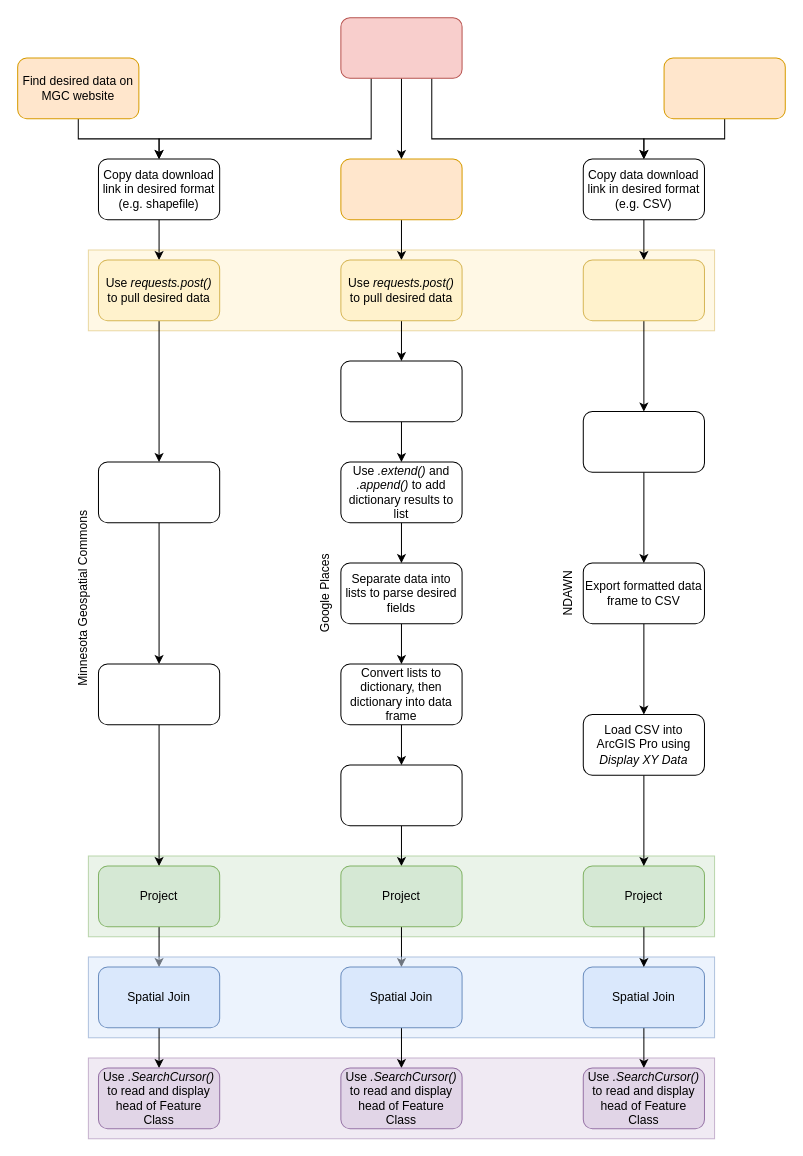
Some shapes in this 803 by 1156 pixel diagram are drawn without their labels. The box of each missing label's shape, as (x1, y1, x2, y2) in pixels:
Convert data frame to CSV and load into ArcGIS Pro using Display XY Data: (340, 764, 462, 826)
Convert to bytes using io.BytesIO() , and then zip: (97, 461, 220, 523)
Find desired data on NDAWN website: (663, 57, 785, 119)
Generate Google Places API access link: (340, 158, 462, 220)
Import desired packages to ArcGIS Pro Notebook: (340, 17, 462, 78)
Load JSON data into dictionary: (340, 360, 462, 422)
Parse and format data frame to remove headings and other unwanted information: (582, 411, 704, 472)
Unzip to desired using .extractall(): (97, 663, 220, 725)
Use .read_csv() to load CSV into data frame: (582, 259, 704, 321)
